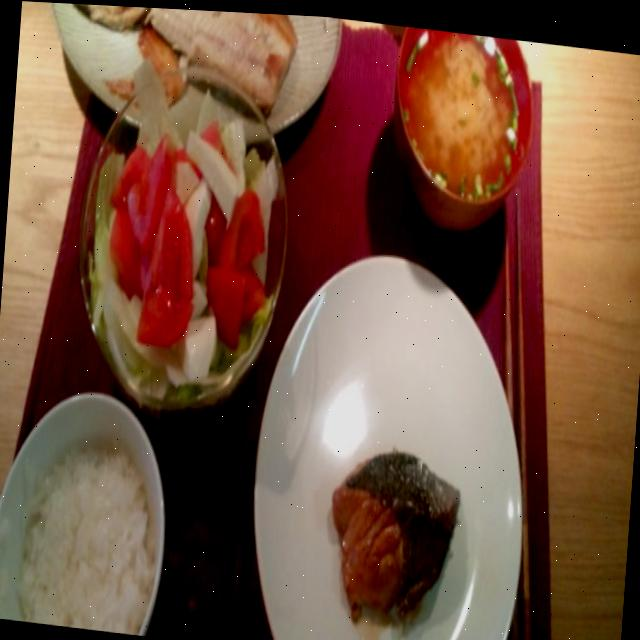汤锅炖物: (394, 21, 522, 210)
熟制海鲜: (307, 421, 467, 640)
米饭主食: (8, 426, 166, 636)
蔬菜料理: (80, 59, 281, 411)
